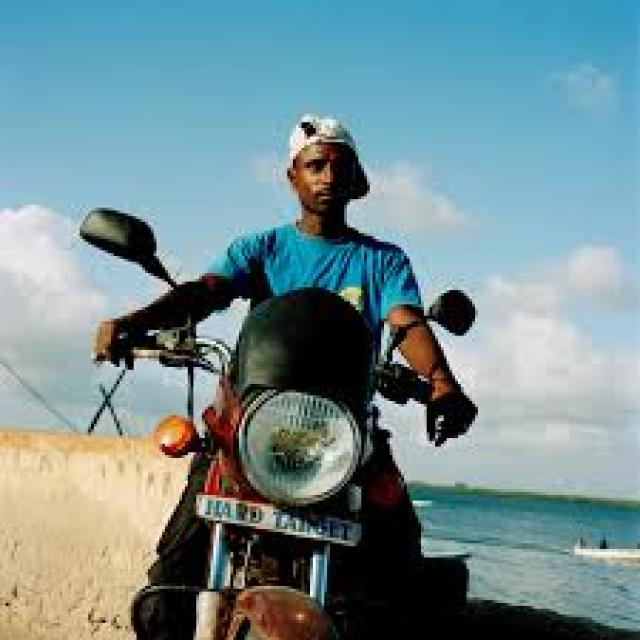bodaboda: (58, 175, 528, 640)
